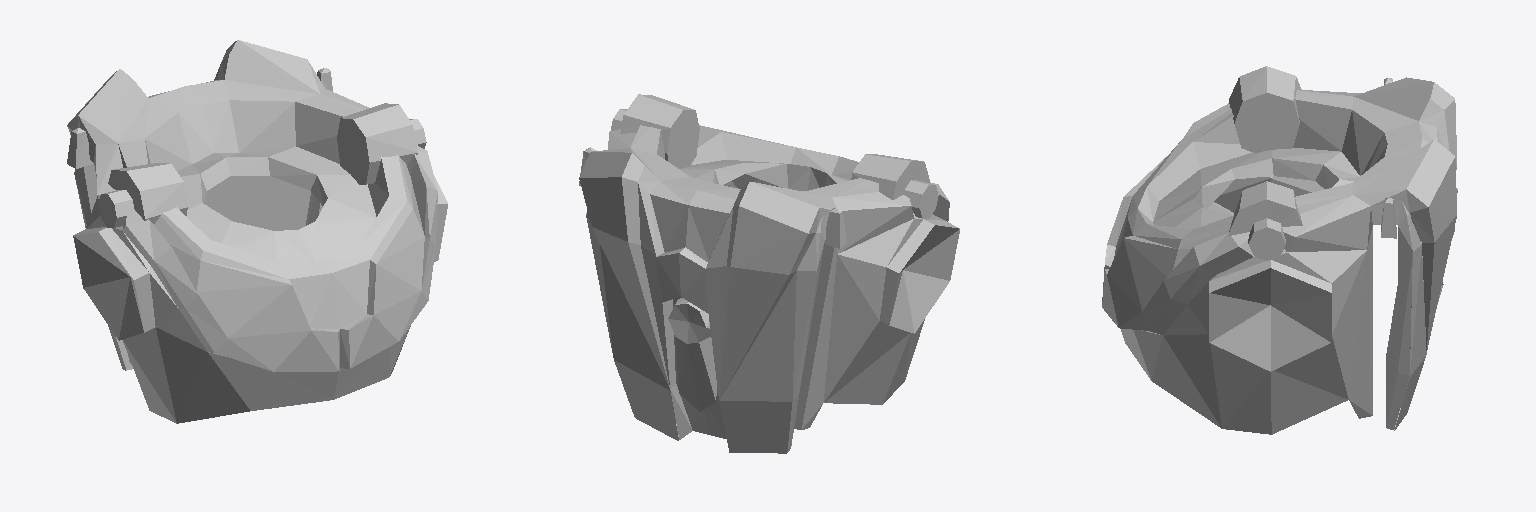
File: buzzlightyTorso.obj
3 renders of one model, left to right at view 1: azimuth 30°, elevation 25°; view 2: azimuth 150°, elevation 25°; view 3: azimuth 270°, elevation 25°, orthographic.
Parts seen in each view (by area): view 1: buzzlightyTorso_buzzlighty.010; view 2: buzzlightyTorso_buzzlighty.010; view 3: buzzlightyTorso_buzzlighty.010.
Part boxes in pixels (left/top/right/bottom): buzzlightyTorso_buzzlighty.010: left=67, top=40, right=447, bottom=423; buzzlightyTorso_buzzlighty.010: left=579, top=94, right=959, bottom=453; buzzlightyTorso_buzzlighty.010: left=1102, top=66, right=1457, bottom=434.
Bounding box in the file's own units: 0.363 × 0.311 × 0.3446.